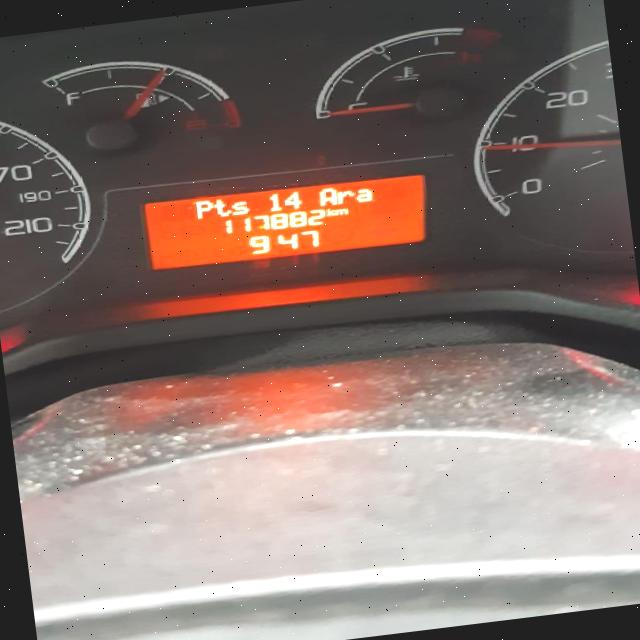odometer: (134, 162, 442, 280)
